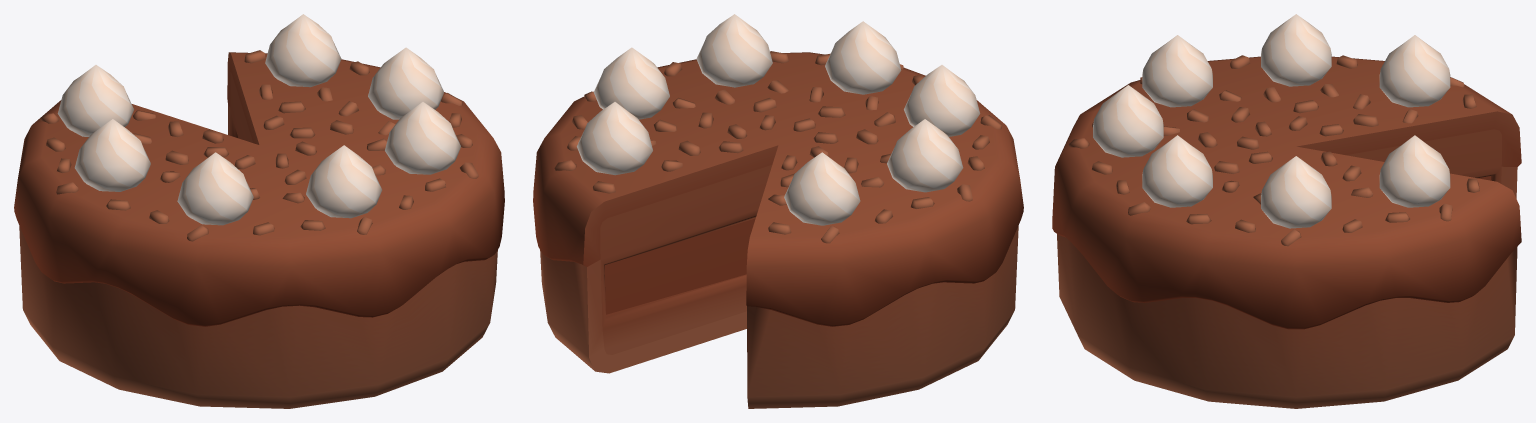
File: cake-chocolate-cut.glb
The picture shows the model from 3 angles, left to right: view 1: azimuth 30°, elevation 25°; view 2: azimuth 150°, elevation 25°; view 3: azimuth 270°, elevation 25°; orthographic projection.
Visible parts, largest first — view 1: cake_chocolate_cut; view 2: cake_chocolate_cut; view 3: cake_chocolate_cut.
Boxes of the visible parts, bbox=[...] form: cake_chocolate_cut: bbox=[14, 14, 504, 408]; cake_chocolate_cut: bbox=[533, 14, 1023, 408]; cake_chocolate_cut: bbox=[1052, 14, 1521, 408].
Bounding box in the file's own units: 1.22 × 0.6442 × 1.17.
1 material, 1 textured.
